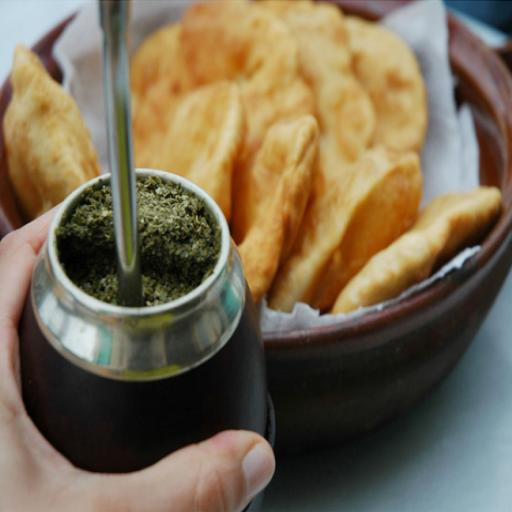bolleria: (269, 149, 422, 311), (181, 0, 312, 177), (332, 187, 500, 313), (262, 0, 375, 177), (3, 45, 100, 219), (233, 115, 318, 301), (134, 81, 244, 219), (345, 17, 427, 150), (131, 23, 192, 165)
mate: (21, 0, 274, 472)
